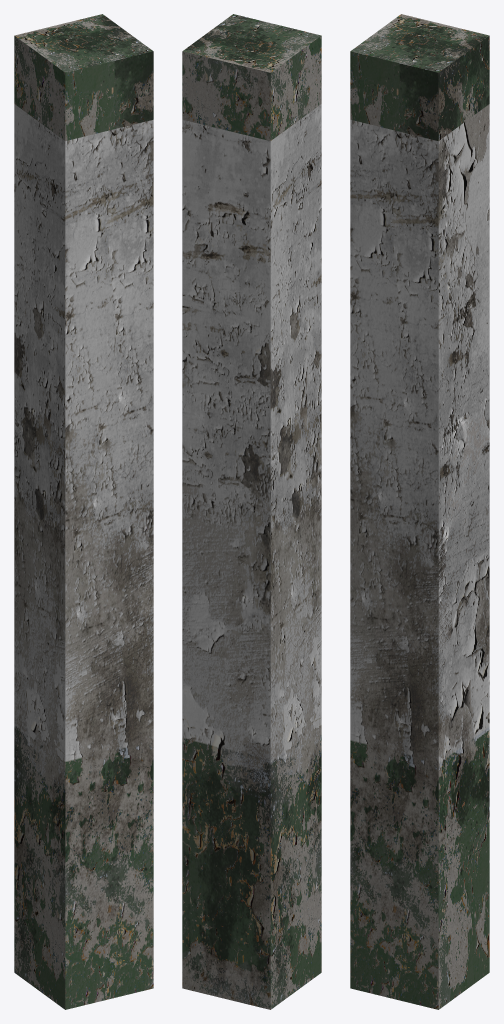
3 renders of one model, left to right at view 1: azimuth 30°, elevation 25°; view 2: azimuth 150°, elevation 25°; view 3: azimuth 330°, elevation 25°, orthographic.
Parts seen in each view (by area): view 1: Cube; view 2: Cube; view 3: Cube.
Boxes of the visible parts, bbox=[...] form: Cube: bbox=[14, 14, 153, 1009]; Cube: bbox=[182, 14, 321, 1009]; Cube: bbox=[350, 14, 489, 1009].
Size of the model in its own units: 200 by 200 by 2028.
1 material, 1 textured.
